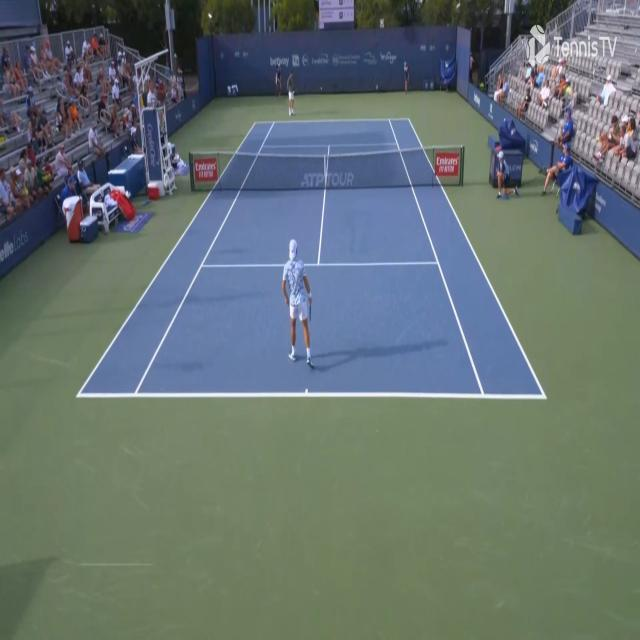tennis-player: (280, 237, 315, 369), (286, 69, 298, 118)
